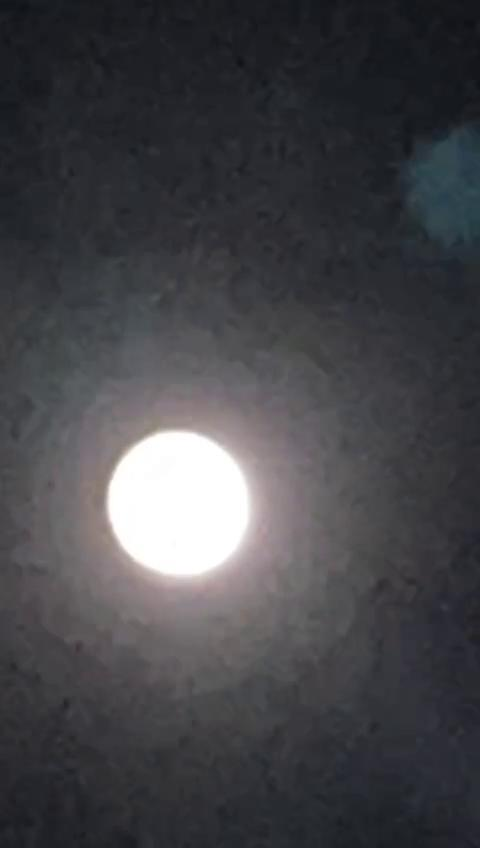moon: (100, 399, 267, 590)
